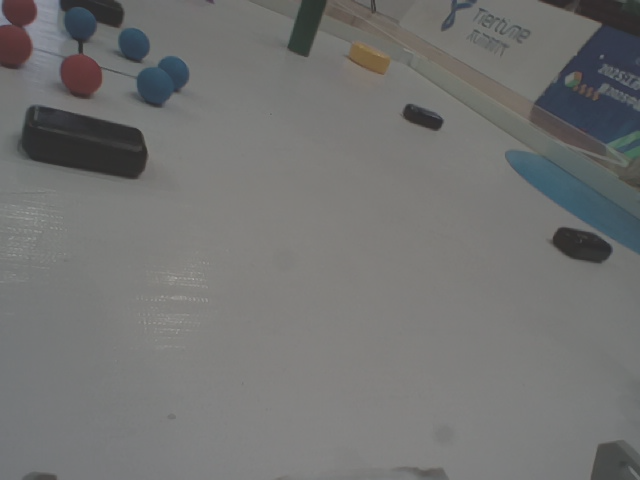black: (22, 105, 148, 179), (552, 225, 613, 262), (61, 1, 125, 29), (398, 103, 439, 125)
blue: (134, 68, 170, 104), (60, 6, 95, 41), (157, 56, 190, 92), (116, 27, 150, 60)
red: (57, 53, 102, 95), (1, 26, 35, 70), (1, 1, 39, 27)
yellow: (349, 41, 391, 73)
zhuzi: (291, 1, 332, 59)
